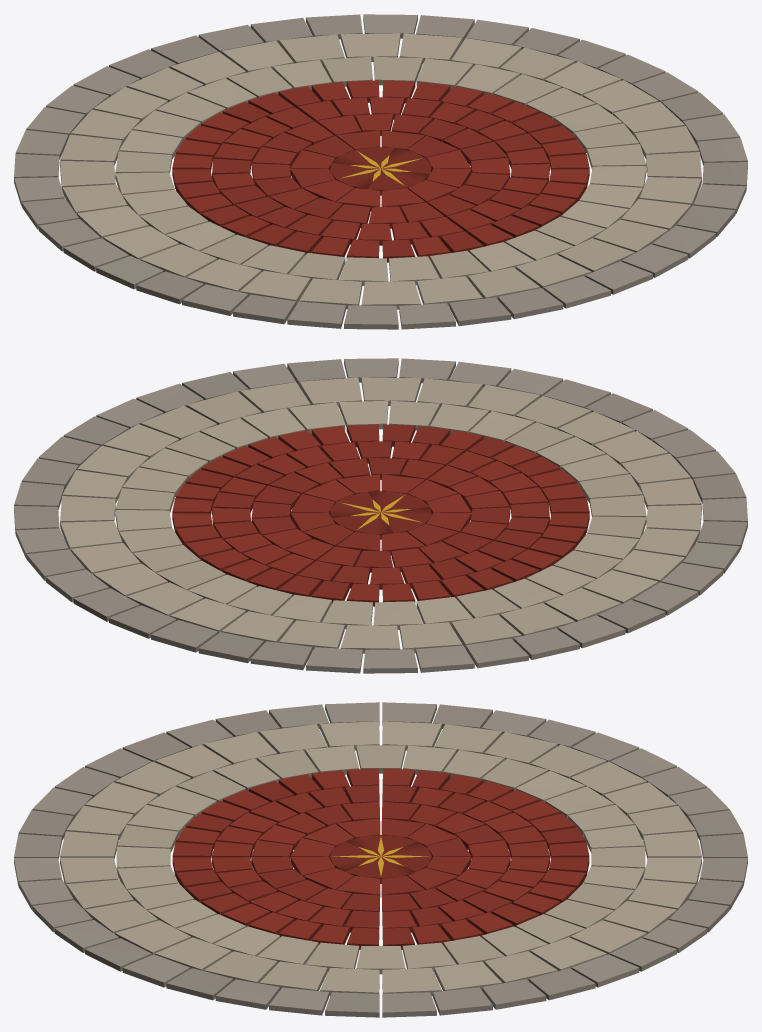
The model's file is square_disc.glb.
3 views of the same model, one above another, from view 1: azimuth 30°, elevation 25°; view 2: azimuth 150°, elevation 25°; view 3: azimuth 270°, elevation 25° (orthographic).
Parts seen in each view (by area): view 1: square_disc; view 2: square_disc; view 3: square_disc.
Boxes of the visible parts, left/top/right/bottom form: square_disc: left=14, top=14, right=747, bottom=329; square_disc: left=14, top=358, right=747, bottom=673; square_disc: left=14, top=702, right=747, bottom=1017.
Size of the model in its own units: 22.4 by 0.202 by 22.4.
